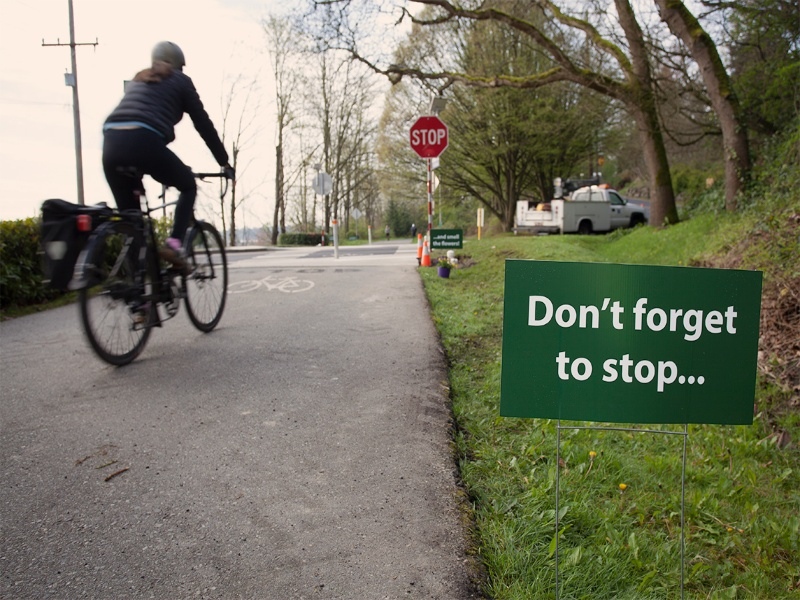stop sign: (406, 112, 451, 162)
